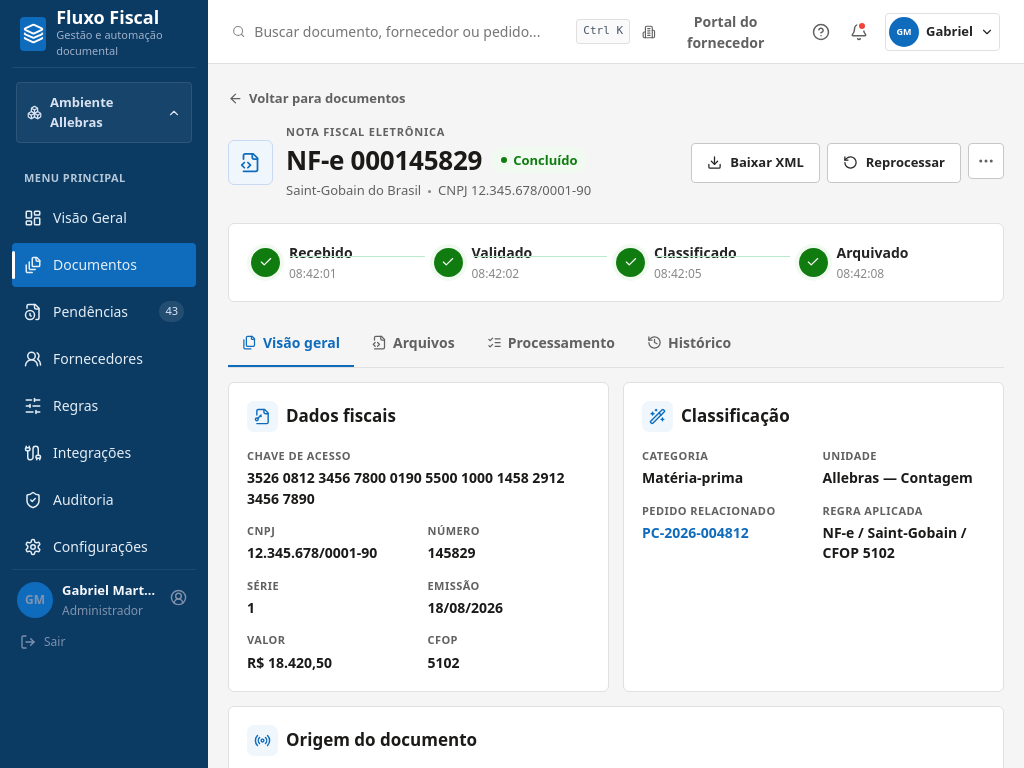
Scenario: document detail traceability › opens the complete automated processing history
Click the tab "Histórico". click: (689, 343)
box: [633,320,745,367]
(page scrolled)
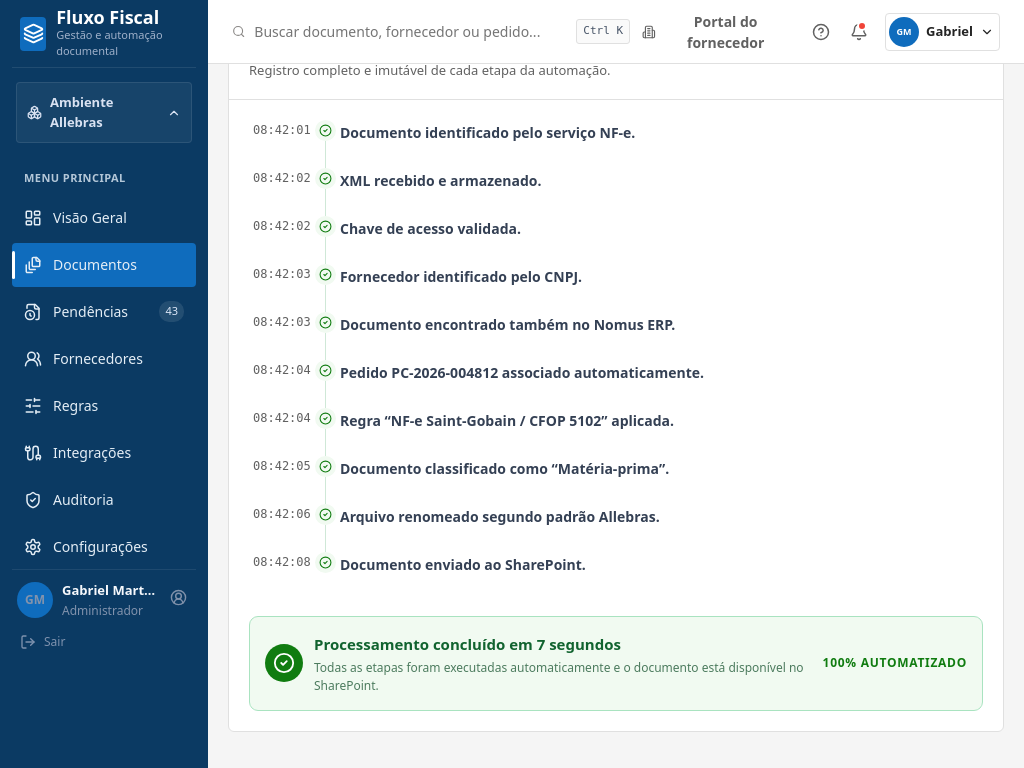
Now the text "Processamento concluído em 7 segundos" is shown, box [314,634,621,654]
Now the text "Documento enviado ao SharePoint." is shown, box [340,554,586,574]
